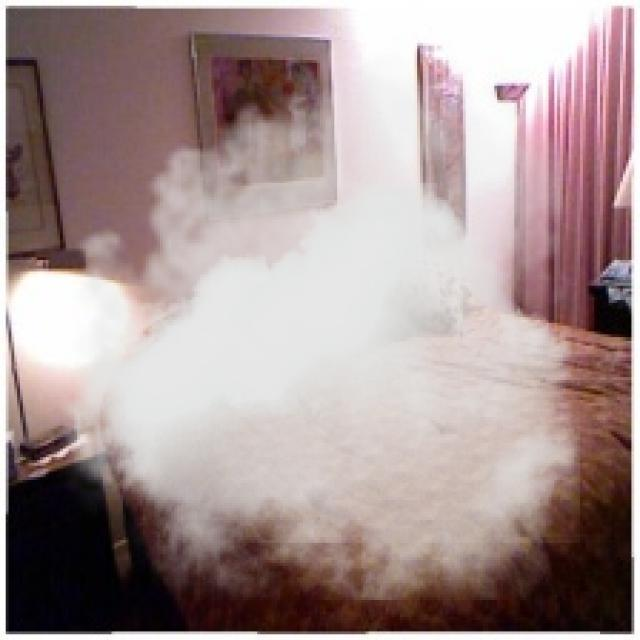Smoke: (43, 34, 580, 600)
